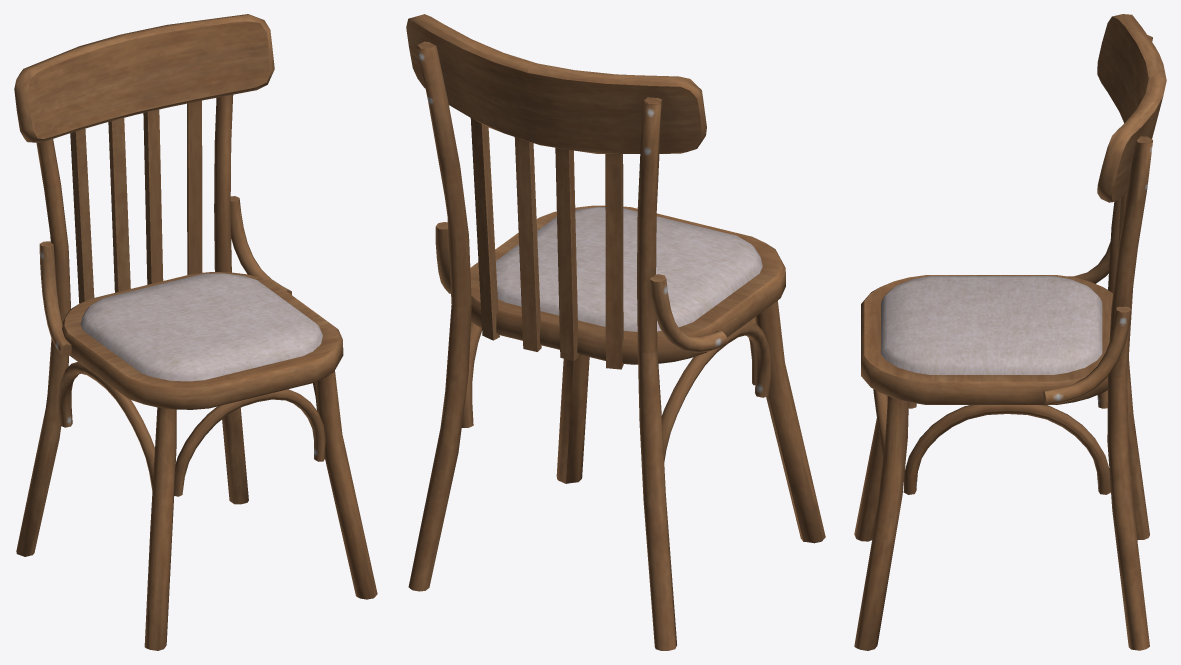
Rendered from old-wooden-chair-24817a.glb.
3 renders of one model, left to right at view 1: azimuth 30°, elevation 25°; view 2: azimuth 150°, elevation 25°; view 3: azimuth 270°, elevation 25°, orthographic. The views are drawn at different scales.
Parts seen in each view (by area): view 1: PropMesh; view 2: PropMesh; view 3: PropMesh.
Boxes of the visible parts, x1=… form: PropMesh: x1=14, y1=14, x2=377, y2=650; PropMesh: x1=406, y1=14, x2=825, y2=650; PropMesh: x1=854, y1=14, x2=1166, y2=650.
Size of the model in its own units: 0.5631 by 1.04 by 0.564.
1 material, 1 textured.
